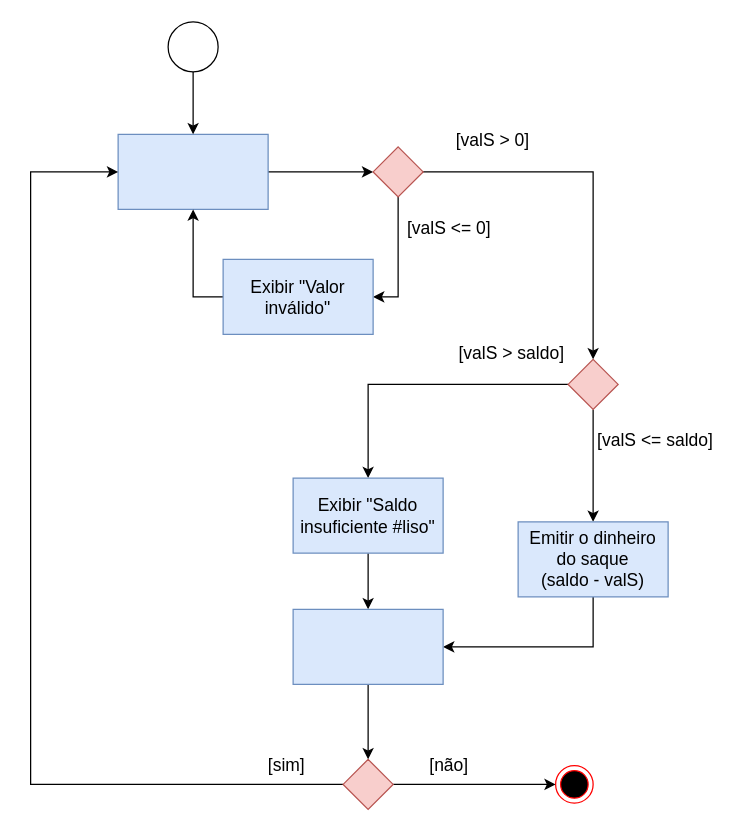
Some shapes in this 740 by 831 pixel diagram are drawn without their labels. Here are the shapes that lost their labels. From the top down, the centre of each, then its label:
(192,171): Informar o valor para sacar (valS)
(367,646): Exibir "Deseja fazer um novo saque?"
